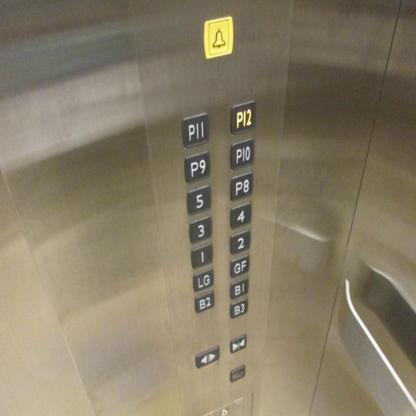1: (192, 240, 212, 268)
2: (228, 229, 251, 253)
3: (186, 213, 214, 246)
4: (228, 202, 252, 231)
5: (185, 185, 211, 216)
B1: (228, 277, 250, 300)
B2: (193, 293, 216, 313)
B3: (229, 300, 248, 319)
GF: (228, 253, 250, 278)
LG: (191, 269, 214, 291)
P10: (228, 138, 254, 171)
P11: (180, 113, 211, 147)
P12: (228, 98, 257, 137)
P8: (228, 171, 255, 203)
P9: (184, 151, 211, 185)
alarm: (202, 13, 236, 60)
blur: (229, 364, 246, 384)
close: (228, 334, 246, 355)
open: (194, 346, 219, 369)
